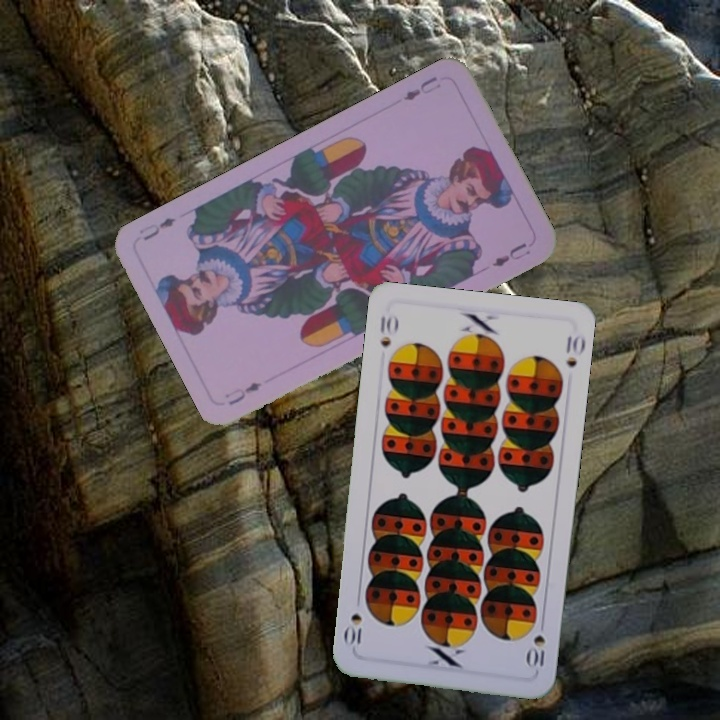EU: (399, 72, 444, 103), (220, 378, 265, 408)
S10: (523, 614, 547, 674), (376, 311, 400, 350)
